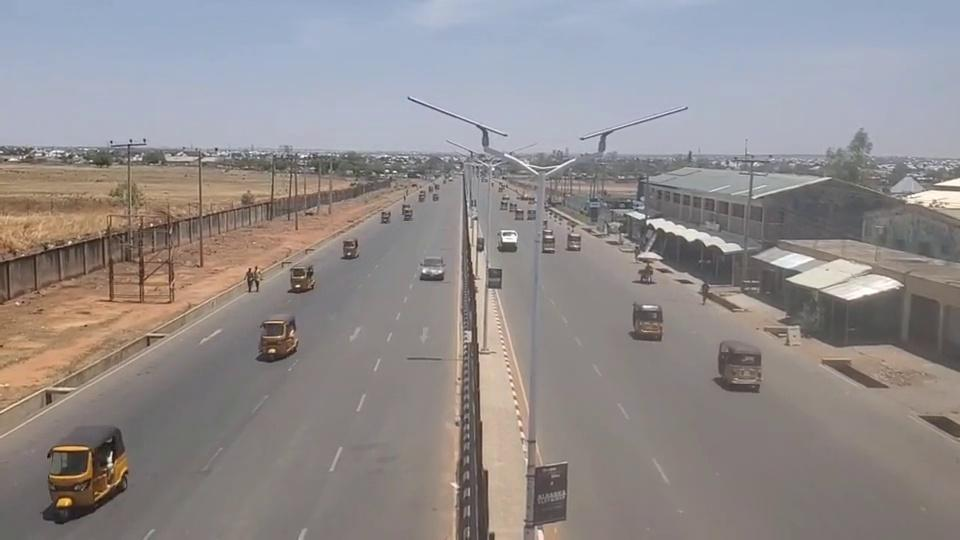keke: (45, 423, 128, 513), (717, 339, 762, 389), (257, 317, 298, 360), (631, 301, 663, 340)
